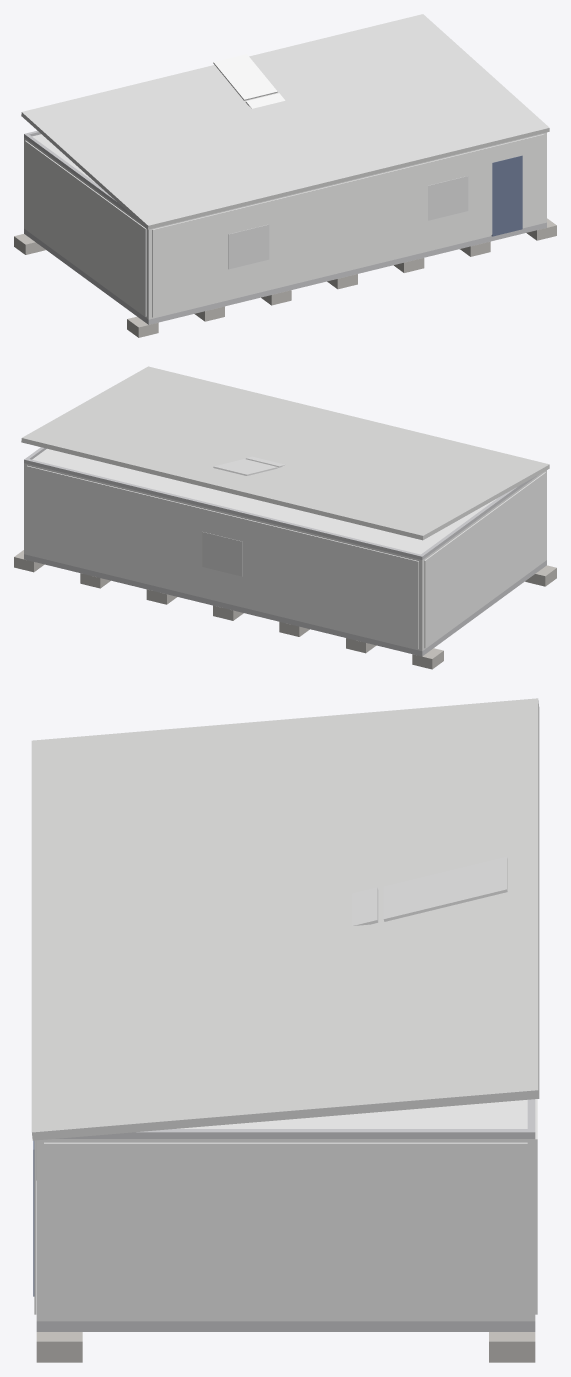
File: Studio-40-SlopingRoof+FullSolar-LOD2.glb
3 renders of one model, top to bottom at view 1: azimuth 30°, elevation 25°; view 2: azimuth 150°, elevation 25°; view 3: azimuth 270°, elevation 25°, orthographic. The views are drawn at different scales.
Parts seen in each view (by area): view 1: RoofSlopingUpgrade, ExteriorPanelsStandard, BaseFrame, WindowsStandard, FoundationBlocks, ExteriorShell, EntryDoor, SolarPanelArray, TopFrame; view 2: ExteriorPanelsStandard, RoofSlopingUpgrade, InteriorCeiling, TopFrame, ExteriorShell, BaseFrame, FoundationBlocks, WindowsStandard, SolarPanelArray; view 3: RoofSlopingUpgrade, ExteriorPanelsStandard, ExteriorShell, BaseFrame, SolarPanelArray, InteriorCeiling, TopFrame, FoundationBlocks.
Part boxes in pixels (x1,y1,x2,y2): RoofSlopingUpgrade: (21,14,549,229); ExteriorPanelsStandard: (25,134,544,317); BaseFrame: (24,222,546,324); WindowsStandard: (228,176,468,269); FoundationBlocks: (14,218,556,337); ExteriorShell: (24,132,546,319); EntryDoor: (491,155,522,236); SolarPanelArray: (213,54,285,108); TopFrame: (24,130,136,219); ExteriorPanelsStandard: (26,465,545,649); RoofSlopingUpgrade: (21,366,549,540); InteriorCeiling: (32,448,497,554); TopFrame: (24,447,537,559); ExteriorShell: (24,463,546,651); BaseFrame: (24,554,546,656); FoundationBlocks: (14,550,556,669); WindowsStandard: (202,532,242,576); SolarPanelArray: (213,456,285,475); RoofSlopingUpgrade: (31,698,539,1140); ExteriorPanelsStandard: (34,1099,537,1318); ExteriorShell: (36,1139,535,1321); BaseFrame: (36,1321,535,1331); SolarPanelArray: (352,856,507,925); InteriorCeiling: (177,1100,527,1128); TopFrame: (56,1099,535,1138); FoundationBlocks: (36,1332,535,1362).
Bounding box in the file's own units: 12.49 × 4.07 × 6.56.
